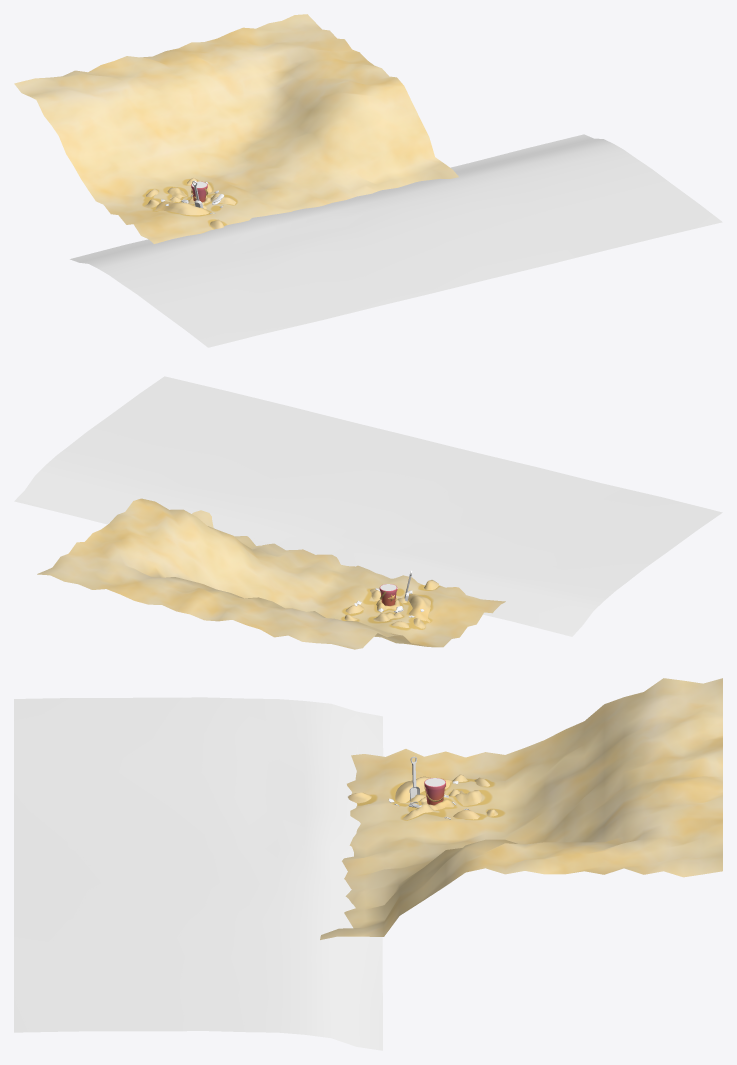
File: BeachEimer_combined 1.fbx
The picture shows the model from 3 angles, top to bottom: view 1: azimuth 30°, elevation 25°; view 2: azimuth 150°, elevation 25°; view 3: azimuth 270°, elevation 25°; orthographic projection. The views are drawn at different scales.
Parts seen in each view (by area): view 1: Meer, SandPlane, Sandhaufen; view 2: Meer, SandPlane, Sandhaufen; view 3: Meer, SandPlane, Sandhaufen.
Part boxes in pixels (bbox=[...]): Meer: bbox=[70, 134, 722, 347]; SandPlane: bbox=[14, 14, 458, 243]; Sandhaufen: bbox=[144, 178, 236, 228]; Meer: bbox=[14, 376, 722, 636]; SandPlane: bbox=[37, 498, 505, 649]; Sandhaufen: bbox=[344, 580, 438, 628]; Meer: bbox=[14, 697, 383, 1050]; SandPlane: bbox=[320, 678, 722, 939]; Sandhaufen: bbox=[348, 774, 497, 820].
Size of the model in its own units: 181278 by 26486 by 162809.
